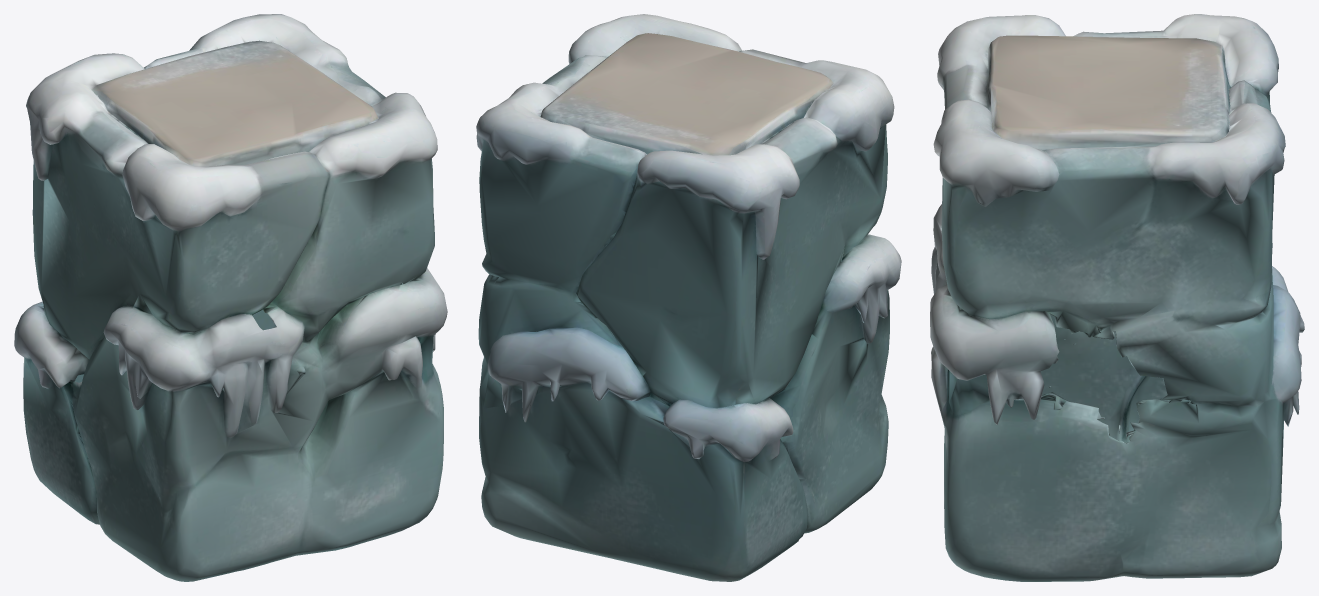
3 renders of one model, left to right at view 1: azimuth 30°, elevation 25°; view 2: azimuth 150°, elevation 25°; view 3: azimuth 270°, elevation 25°, orthographic. The views are drawn at different scales.
Visible parts, largest first — view 1: world; view 2: world; view 3: world.
Part boxes in pixels (bbox=[...]): world: bbox=[14, 14, 447, 581]; world: bbox=[476, 14, 901, 581]; world: bbox=[930, 14, 1304, 581].
Bounding box in the file's own units: 0.7563 × 1 × 0.7678.
1 material, 1 textured.
